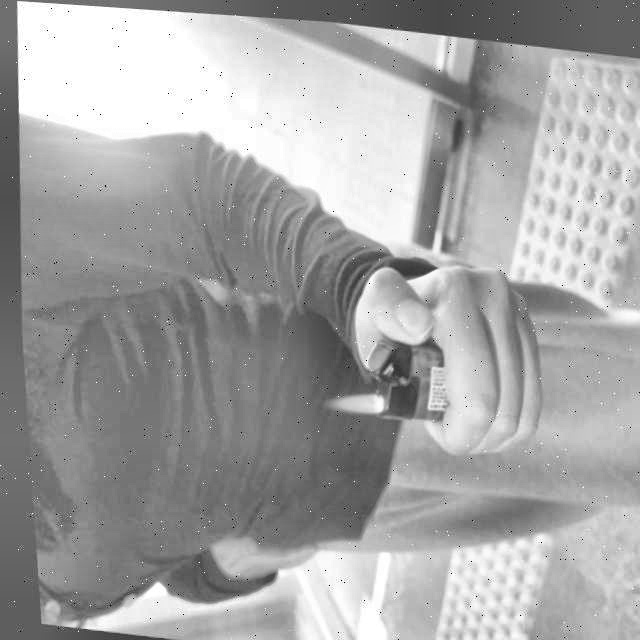Fire: (322, 382, 383, 412)
